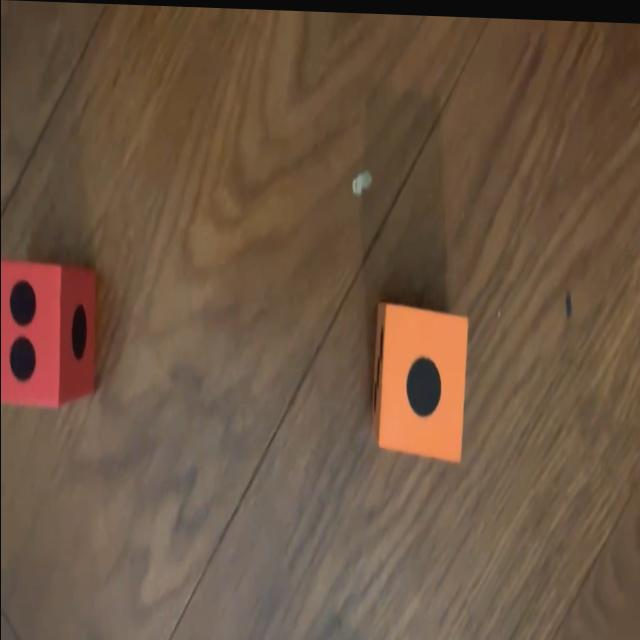red_block: (0, 263, 96, 407)
